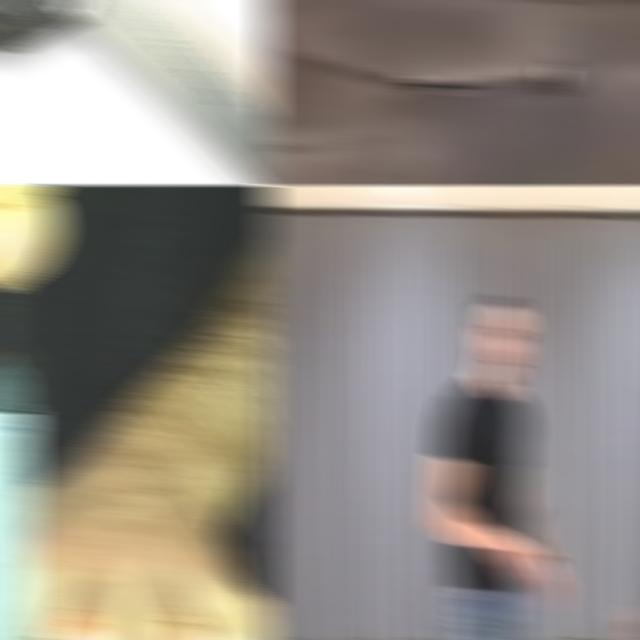Knife: (54, 0, 276, 186), (0, 294, 38, 640)
Knife_Handle: (484, 499, 540, 586)
